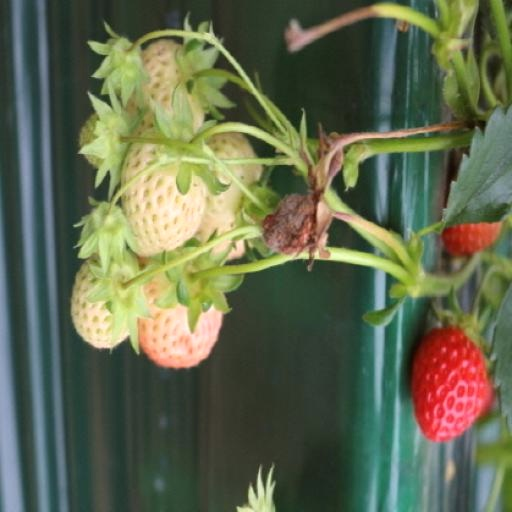Gray Mold: (164, 240, 252, 346)
